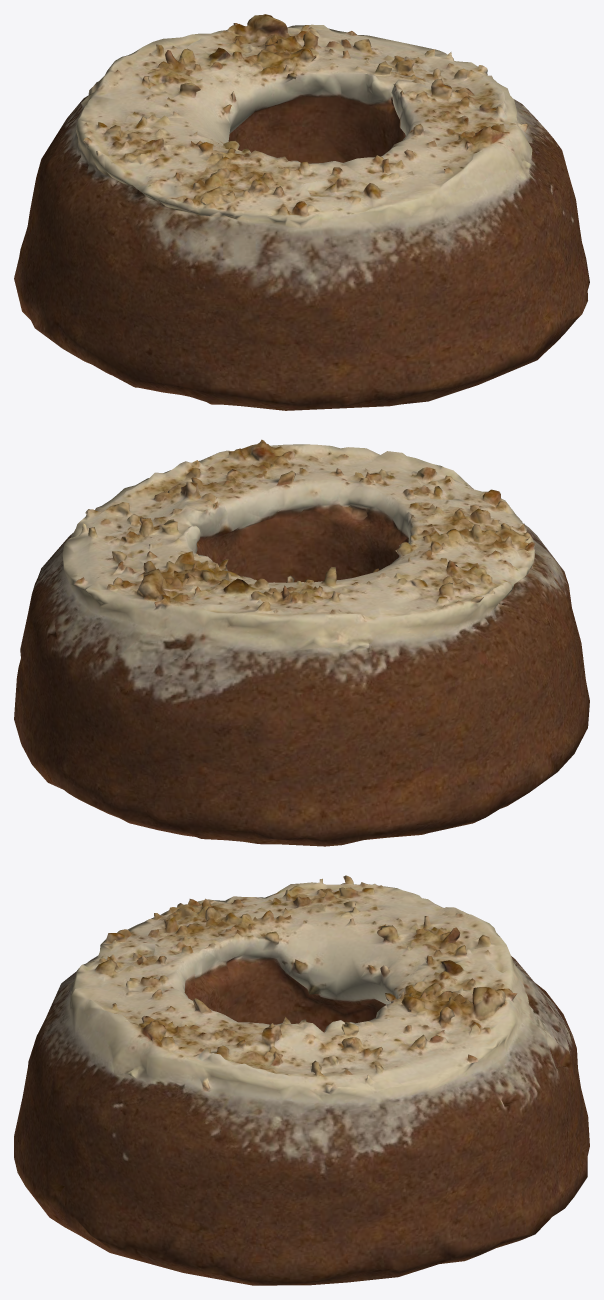
The model's file is bolo-cenoura-v03.glb.
The picture shows the model from 3 angles, top to bottom: view 1: azimuth 30°, elevation 25°; view 2: azimuth 150°, elevation 25°; view 3: azimuth 270°, elevation 25°; orthographic projection. The views are drawn at different scales.
Parts seen in each view (by area): view 1: carrot_cake; view 2: carrot_cake; view 3: carrot_cake.
Part boxes in pixels (box(x1,y1,x2,y2)): carrot_cake: box(14, 14, 589, 410); carrot_cake: box(14, 439, 589, 846); carrot_cake: box(14, 875, 589, 1285).
Bounding box in the file's own units: 0.2 × 0.0866 × 0.2.
Materials: 1 (1 with a texture image).
